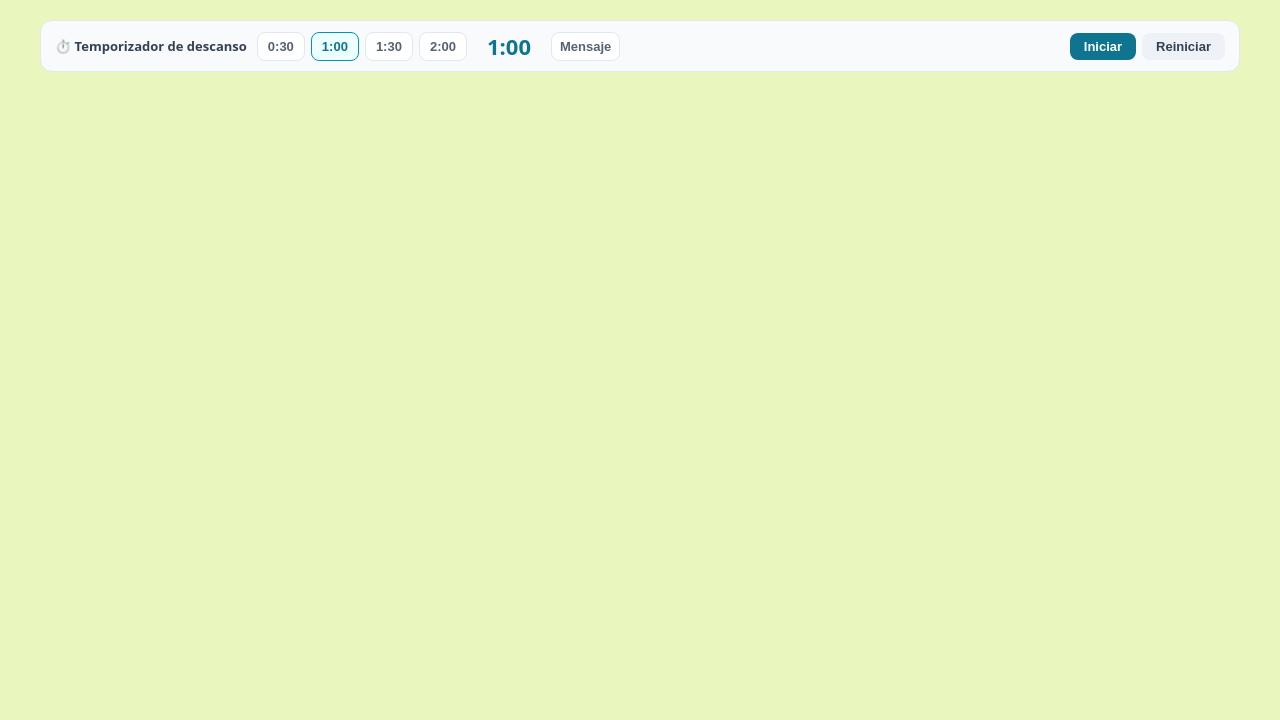
it: RestTimer end-of-rest alert › uses and remembers a custom message
Click the button "Mensaje": (586,46) 551,32 -> 620,60
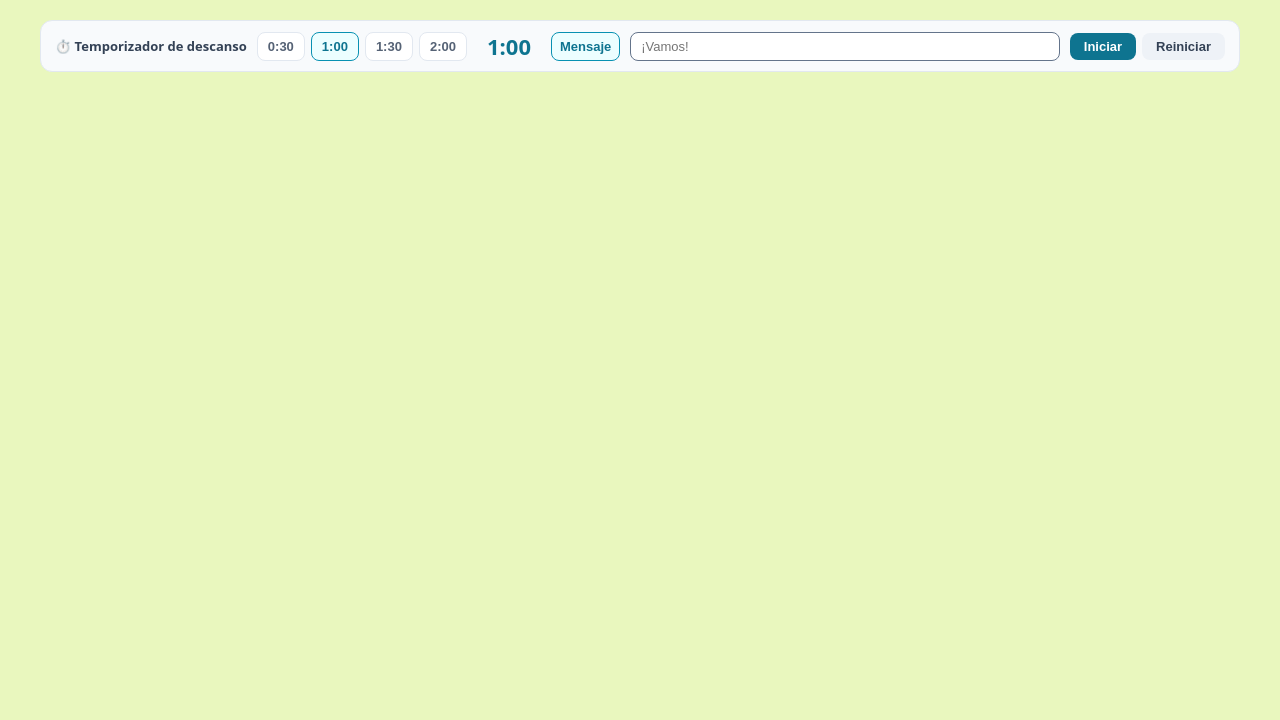
In the field with placeholder "¡Vamos!": (845,46) 630,32 -> 1060,60, type "Otra serie"
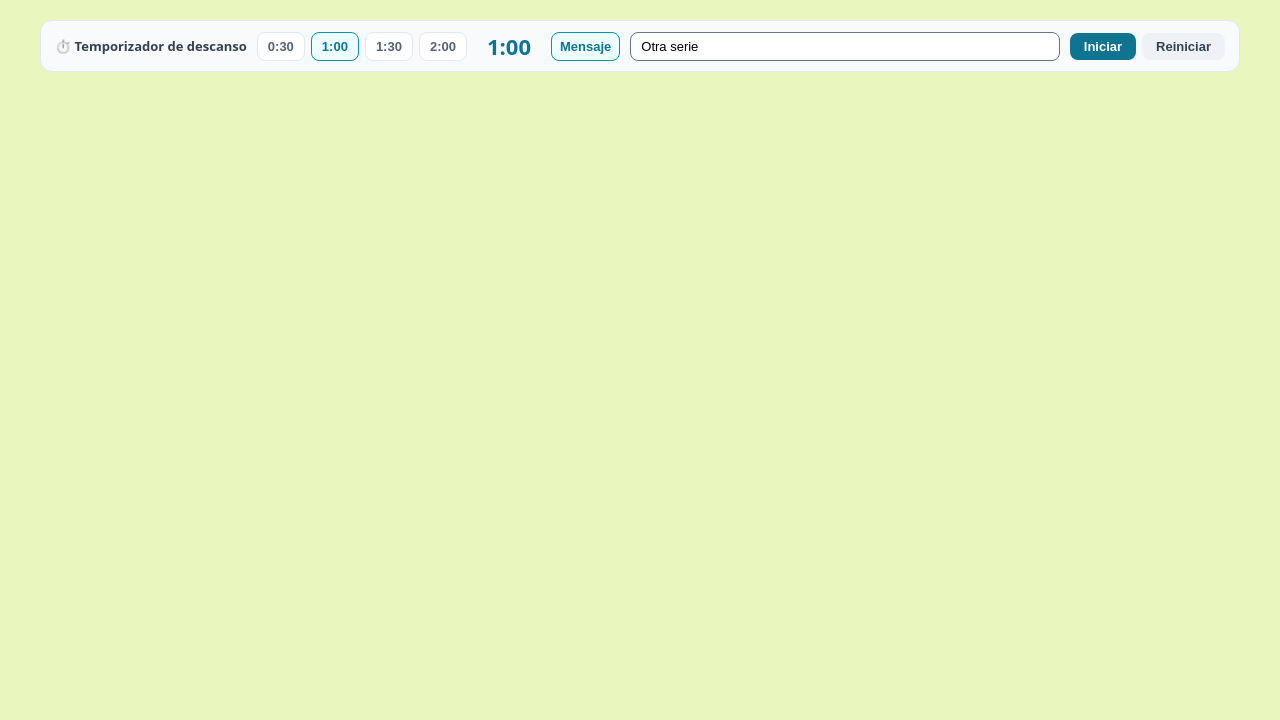
Click the button "0:30": (281,46) 257,32 -> 305,60
Wait 30000 ms
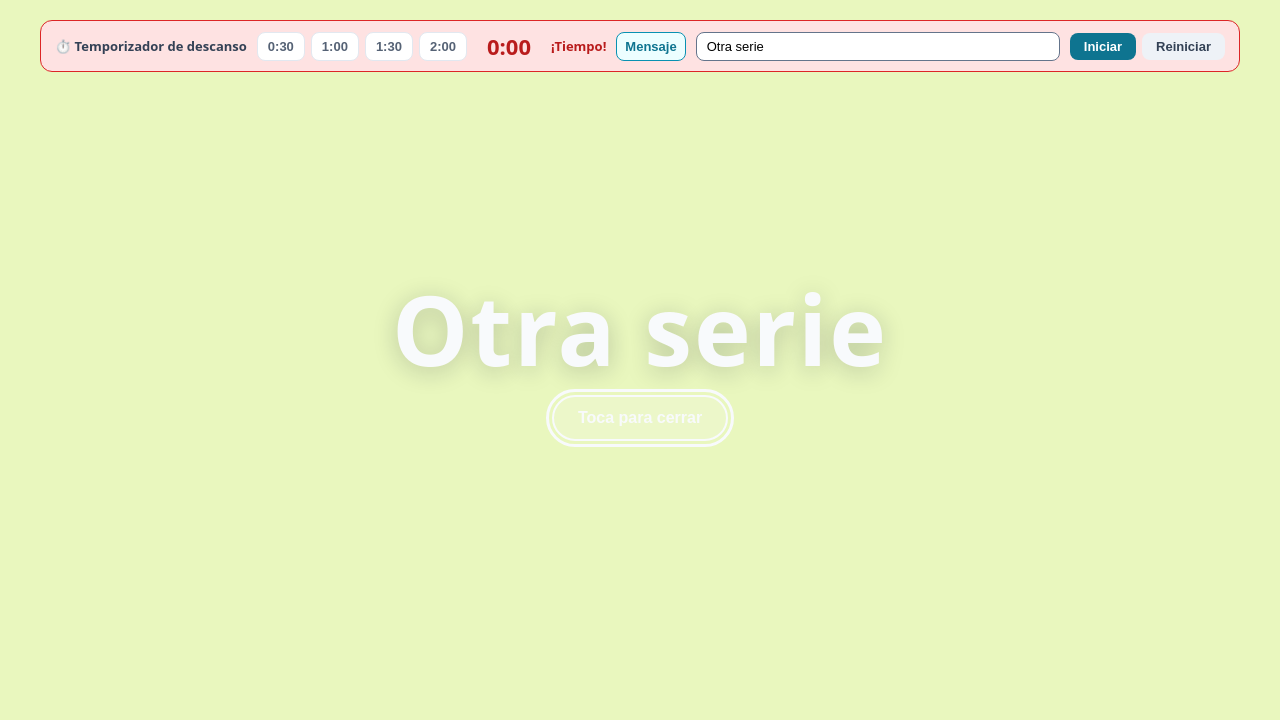
Now the dialog with test id "rest-alert" shows "Otra serie", box 392,263 -> 888,394
Now the text "Otra serie" is shown, box 392,279 -> 888,379
